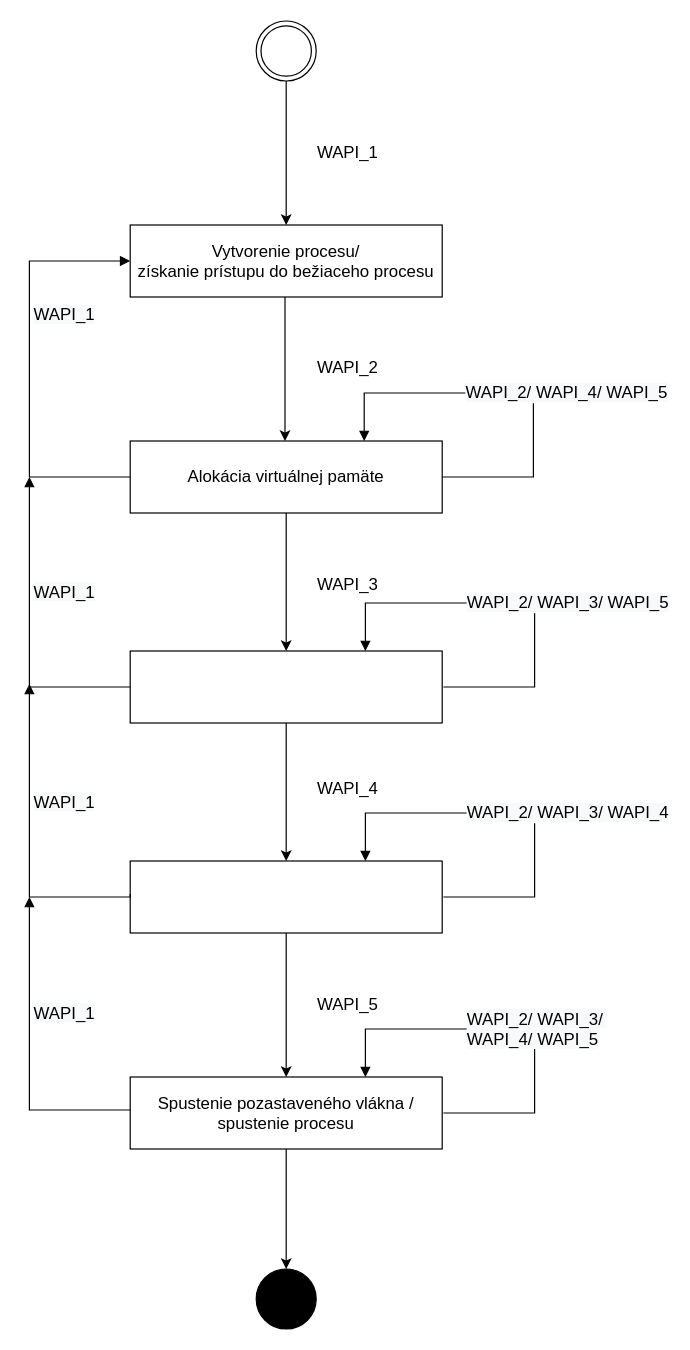
Some shapes in this 690 by 1350 pixel diagram are drawn without their labels. Here are the shapes that lost their labels. From the top down, the centre of each, then its label:
(x=285, y=686): Skopírovanie malvéru do alokovanej virtuálnej pamäte
(x=285, y=896): Nastavenie IP na spustenie malvéru
